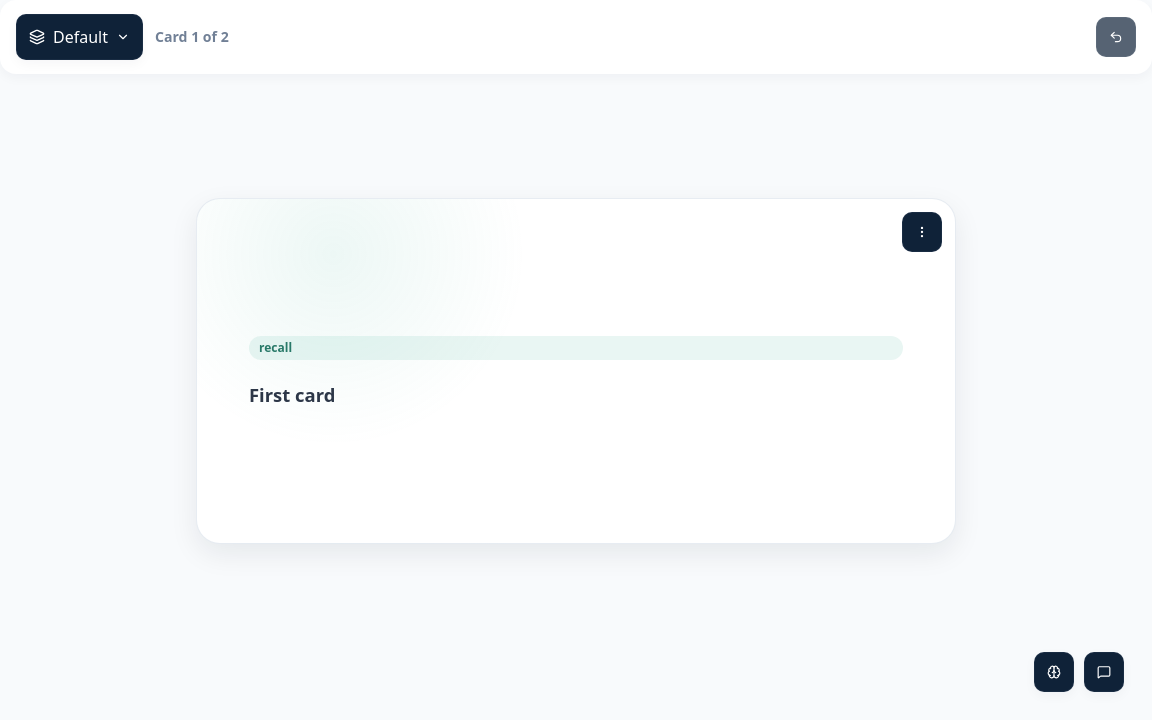
ReviewPage › skips the current card locally by moving it to the end of the queue
Expected: the text "First card" is shown, [249,382,335,407]
Press ArrowDown in the button named "menu", box [902,212,942,252]
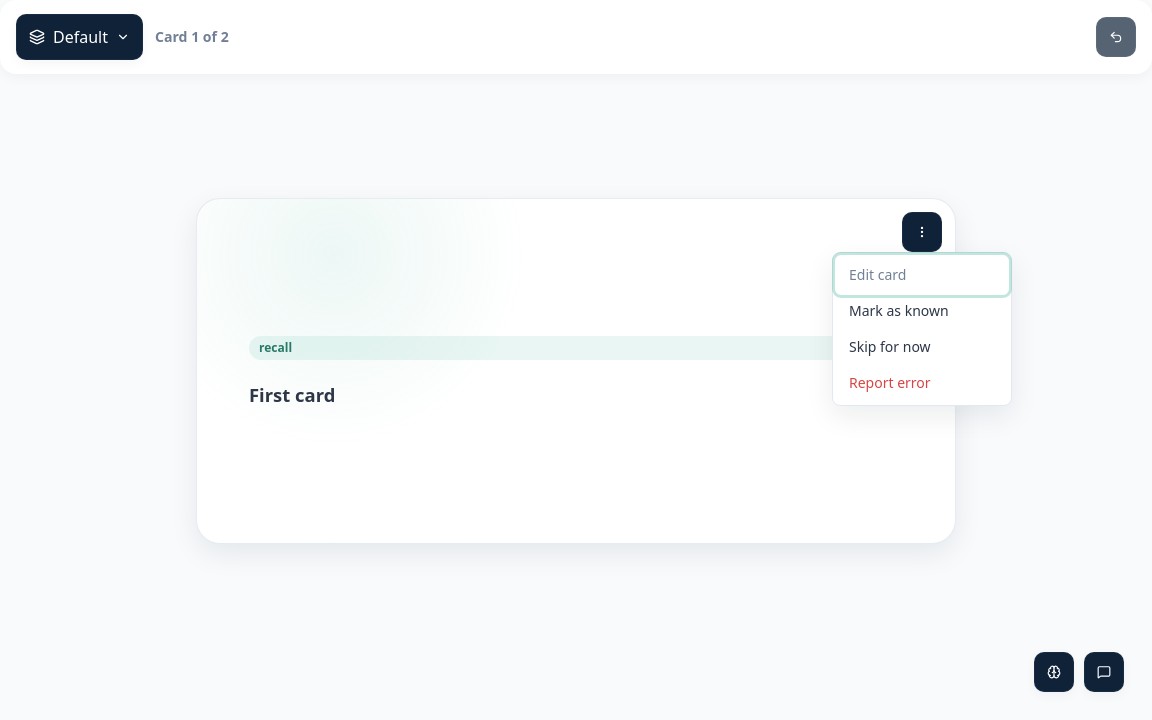
Click the menu item "Skip for now".
click(890, 346)  # box [849,337,931,356]
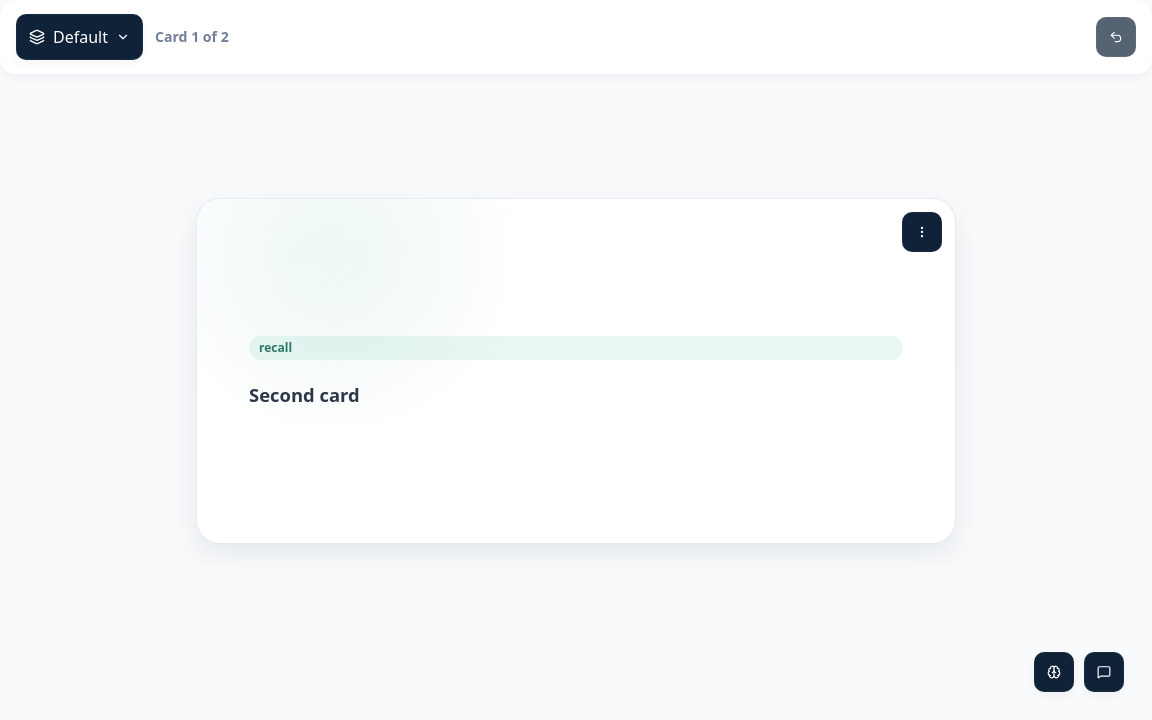
Result: the text "Second card" is shown at [249,382,360,407]
